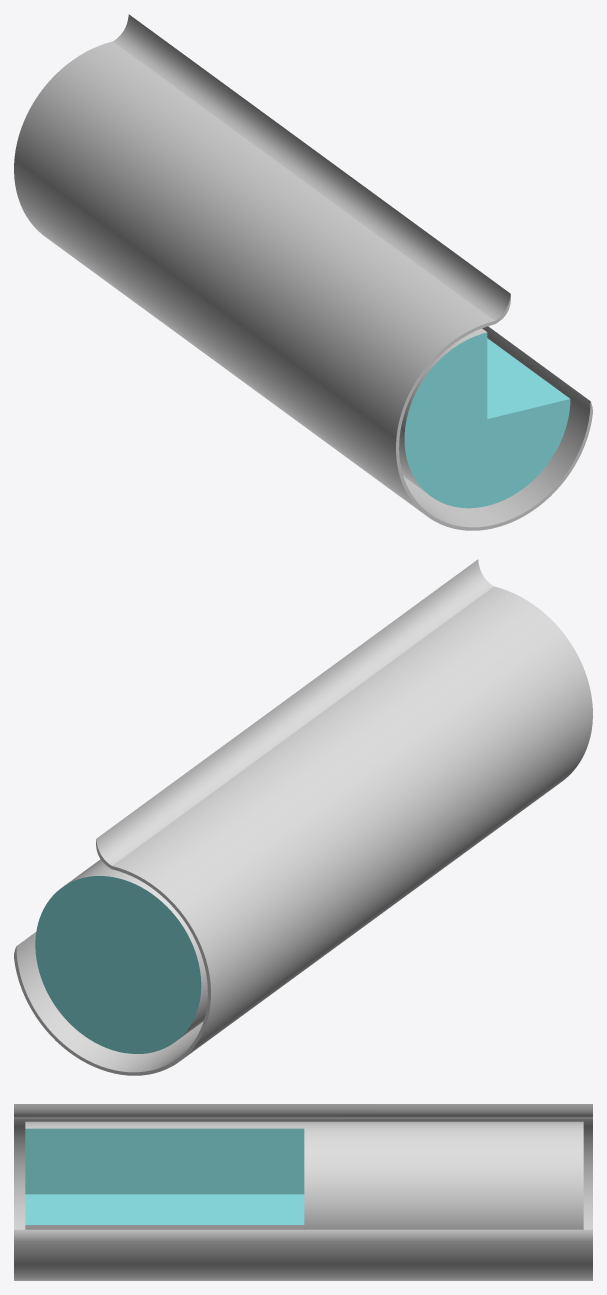
The model's file is MENTHOL2.glb.
3 views of the same model, one above another, from view 1: azimuth 30°, elevation 25°; view 2: azimuth 150°, elevation 25°; view 3: azimuth 270°, elevation 25° (orthographic). The views are drawn at different scales.
Size of the model in its own units: 0.00926 by 0.0103 by 0.0311.
